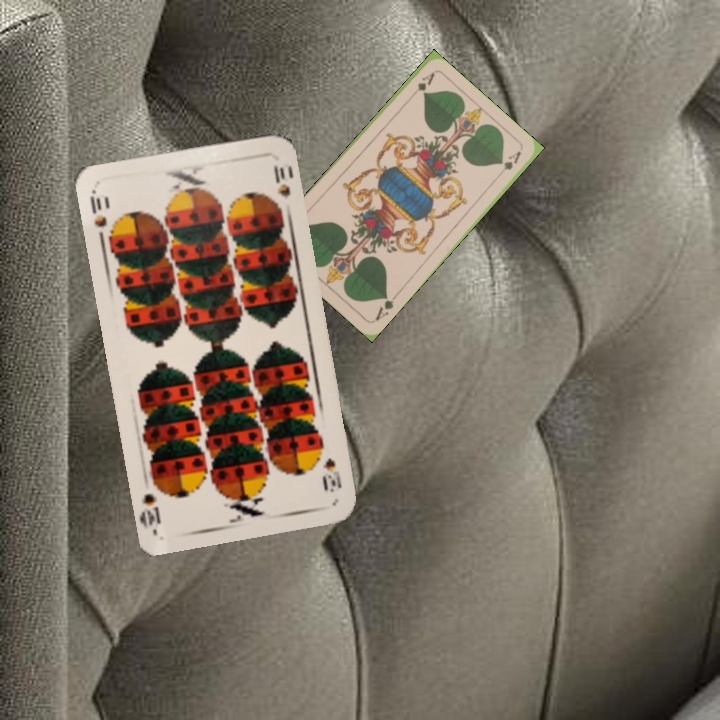GA: (405, 69, 437, 102), (371, 289, 401, 324)
S10: (86, 187, 110, 247), (318, 453, 345, 495)
